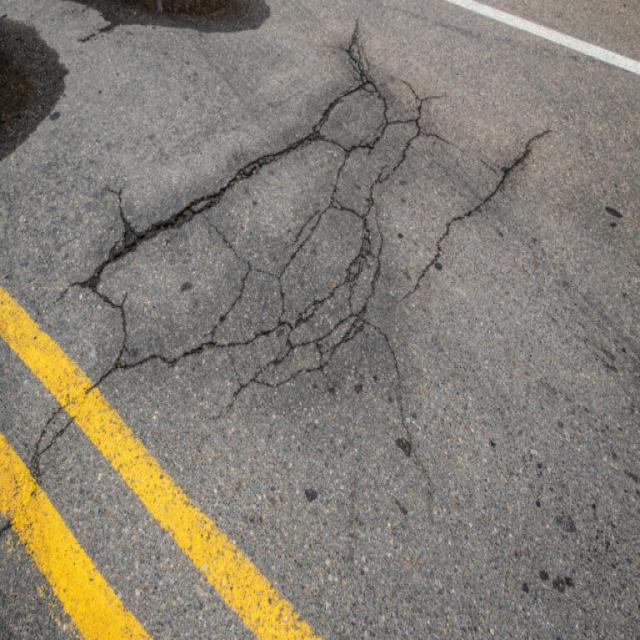Drain Hole: (174, 224, 501, 377)
